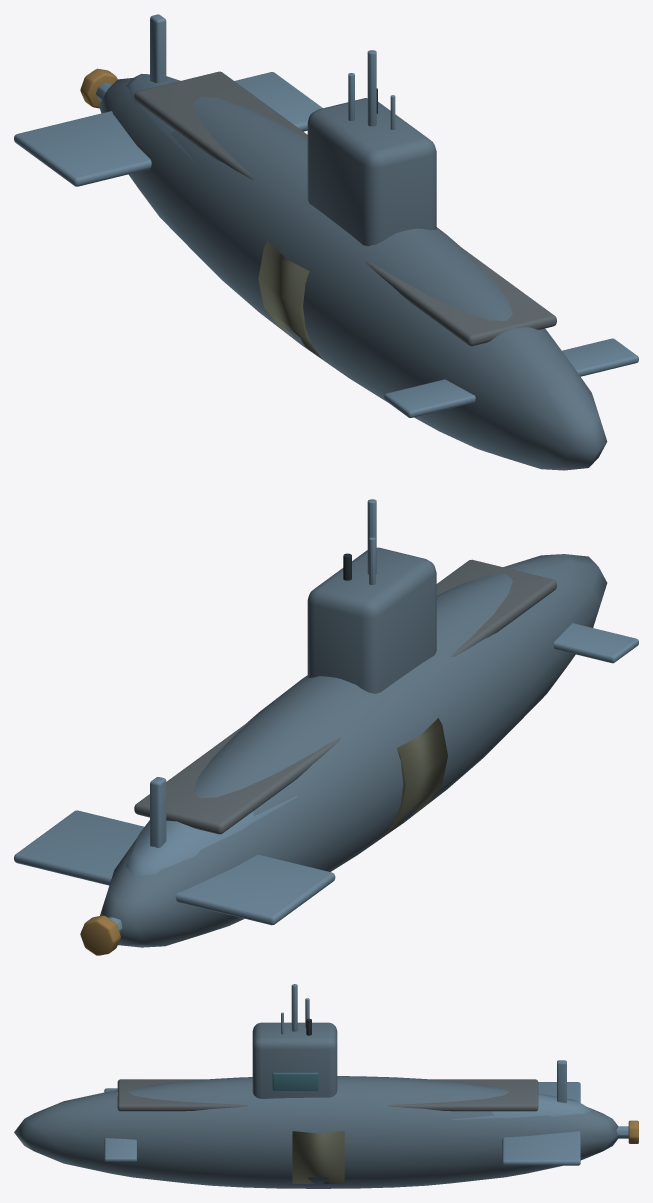
File: hero-submarine-lod2.glb
3 renders of one model, top to bottom at view 1: azimuth 30°, elevation 25°; view 2: azimuth 150°, elevation 25°; view 3: azimuth 270°, elevation 25°, orthographic. The views are drawn at different scales.
Parts seen in each view (by area): view 1: pressure-hull, rounded-sail, deck-casing, stern-horizontal-plane, bow-diving-planes, waterline-grime-band, stern-rudder, upper-hull-wet-sheen, propeller-hub, attack-periscope; view 2: pressure-hull, rounded-sail, stern-horizontal-plane, deck-casing, waterline-grime-band, upper-hull-wet-sheen, bow-diving-planes, propeller-hub, stern-rudder; view 3: pressure-hull, rounded-sail, deck-casing, stern-horizontal-plane, waterline-grime-band, upper-hull-wet-sheen, bridge-window-band, bow-diving-planes, stern-rudder, attack-periscope.
Part boxes in pixels (x1,y1,x2,y2): pressure-hull: (99, 78, 607, 470); rounded-sail: (307, 98, 436, 246); deck-casing: (134, 71, 556, 346); stern-horizontal-plane: (14, 72, 322, 186); bow-diving-planes: (384, 338, 638, 417); waterline-grime-band: (258, 241, 322, 358); stern-rudder: (150, 14, 166, 82); upper-hull-wet-sheen: (126, 73, 195, 162); propeller-hub: (80, 68, 117, 108); attack-periscope: (367, 50, 376, 126); pressure-hull: (100, 554, 607, 947); rounded-sail: (307, 547, 436, 693); stern-horizontal-plane: (14, 810, 335, 925); deck-casing: (134, 559, 556, 834); waterline-grime-band: (384, 718, 447, 835); upper-hull-wet-sheen: (126, 796, 297, 876); bow-diving-planes: (553, 623, 638, 663); propeller-hub: (80, 915, 120, 955); stern-rudder: (150, 777, 166, 847); pressure-hull: (14, 1076, 618, 1188); rounded-sail: (252, 1022, 337, 1098); deck-casing: (117, 1079, 538, 1111); stern-horizontal-plane: (502, 1082, 580, 1165); waterline-grime-band: (292, 1131, 344, 1183); upper-hull-wet-sheen: (452, 1093, 592, 1119); bridge-window-band: (272, 1072, 318, 1090); bow-diving-planes: (104, 1088, 136, 1161); stern-rudder: (557, 1060, 566, 1103); attack-periscope: (291, 984, 297, 1031).
Bounding box in the file's own units: 6 × 7.03 × 19.9.
